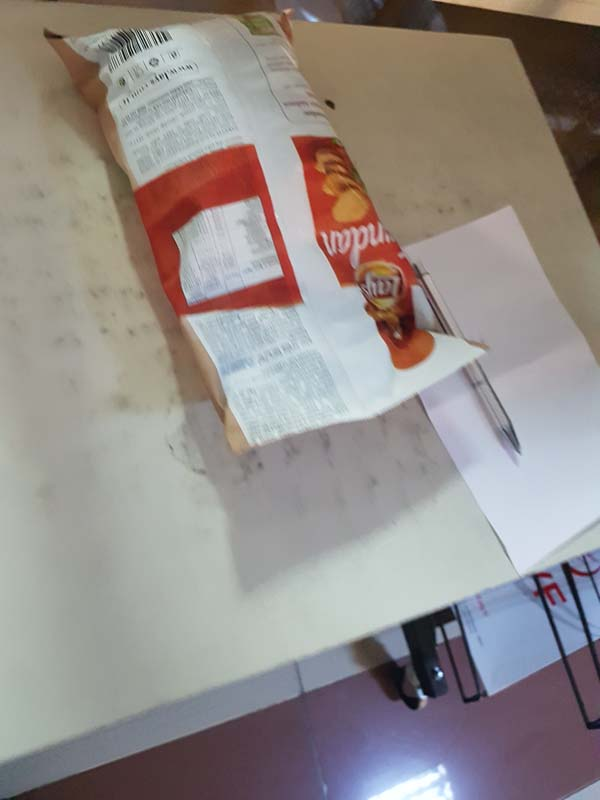laysfirindan: (42, 2, 490, 455)
